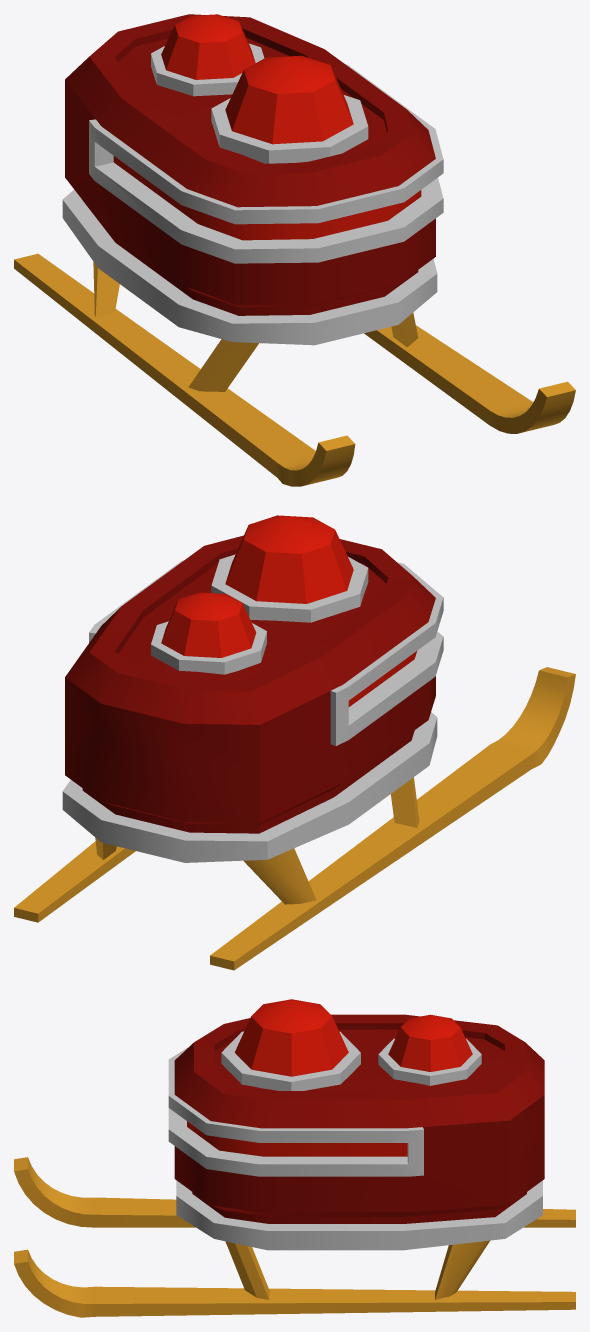
The model's file is traineau.dae.
The picture shows the model from 3 angles, top to bottom: view 1: azimuth 30°, elevation 25°; view 2: azimuth 150°, elevation 25°; view 3: azimuth 270°, elevation 25°; orthographic projection. The views are drawn at different scales.
Parts seen in each view (by area): view 1: Sphere; view 2: Sphere; view 3: Sphere.
Boxes of the visible parts, x1,y1,x2,y2 form: Sphere: (14, 14, 575, 486); Sphere: (14, 515, 575, 970); Sphere: (14, 999, 575, 1317).
Size of the model in its own units: 146 by 165 by 319.
